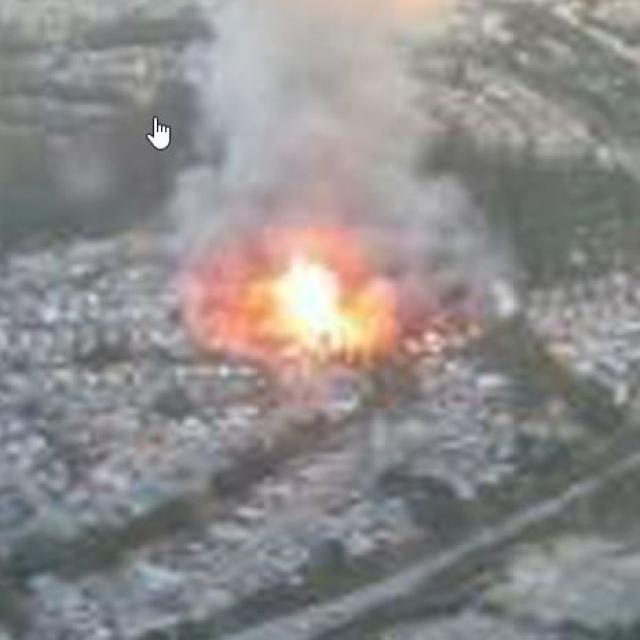Fire: (275, 274, 338, 357)
Smoke: (212, 17, 484, 325)
